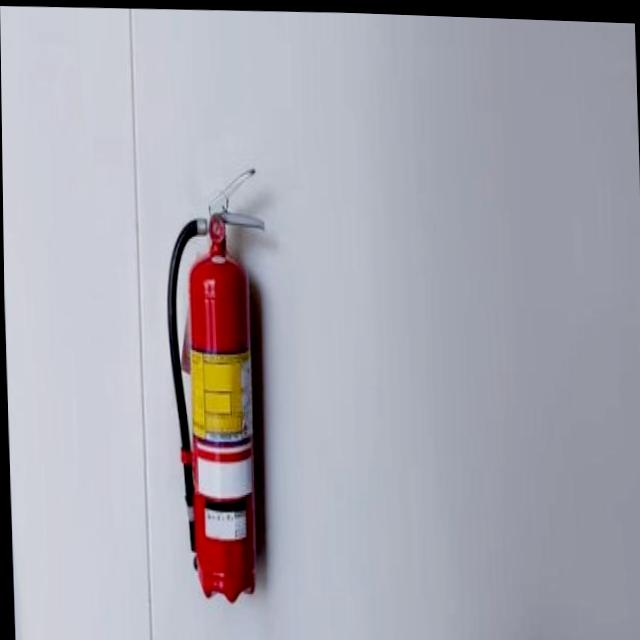FireExtinguisher: (157, 156, 276, 607)
